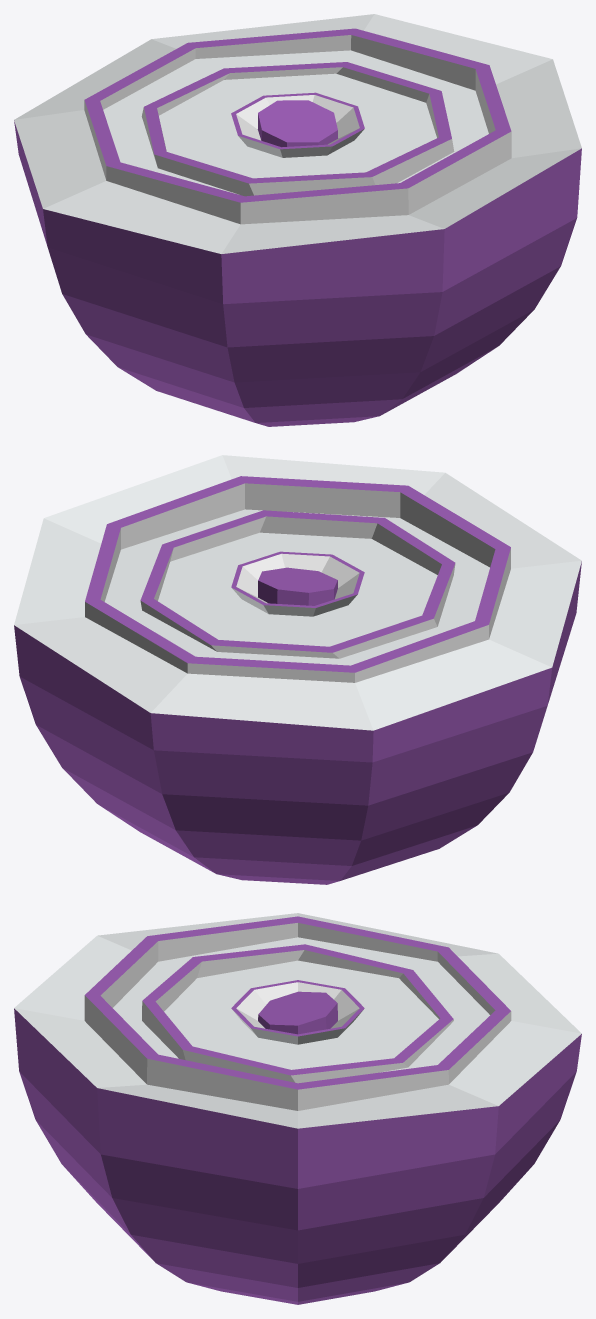
The model's file is onion.fbx.
3 views of the same model, one above another, from view 1: azimuth 30°, elevation 25°; view 2: azimuth 150°, elevation 25°; view 3: azimuth 270°, elevation 25° (orthographic). The views are drawn at different scales.
Parts seen in each view (by area): view 1: Sphere; view 2: Sphere; view 3: Sphere.
Boxes of the visible parts, x1,y1,x2,y2 form: Sphere: (14, 14, 581, 426); Sphere: (14, 455, 581, 884); Sphere: (14, 913, 581, 1304).
Size of the model in its own units: 200 by 110 by 200.
